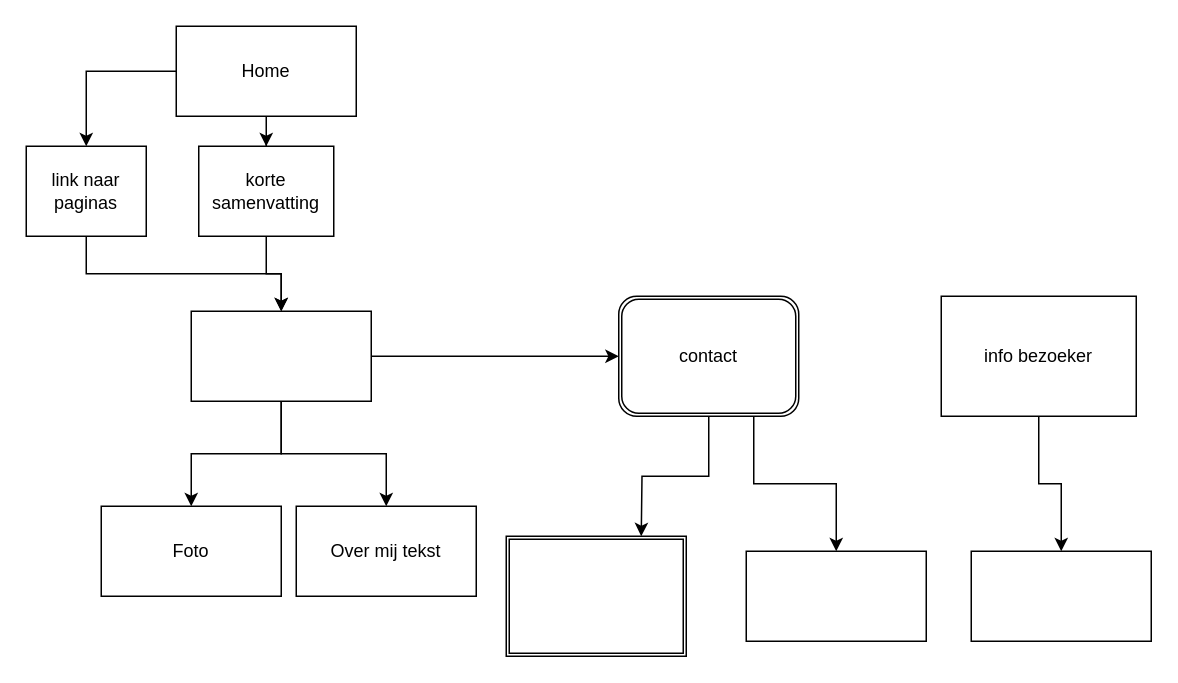
Some shapes in this 1178 by 683 pixel diagram are drawn without their labels. Each missing label, with the centre of its shape:
About: the point at 280,355
email info: the point at 835,595
instagram link: the point at 595,595
java script: the point at 1060,595
